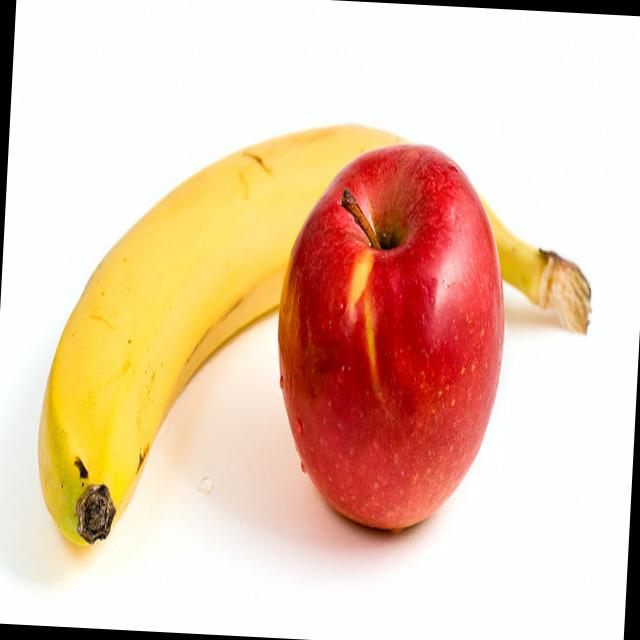banana: (14, 110, 530, 570), (260, 137, 506, 546)
